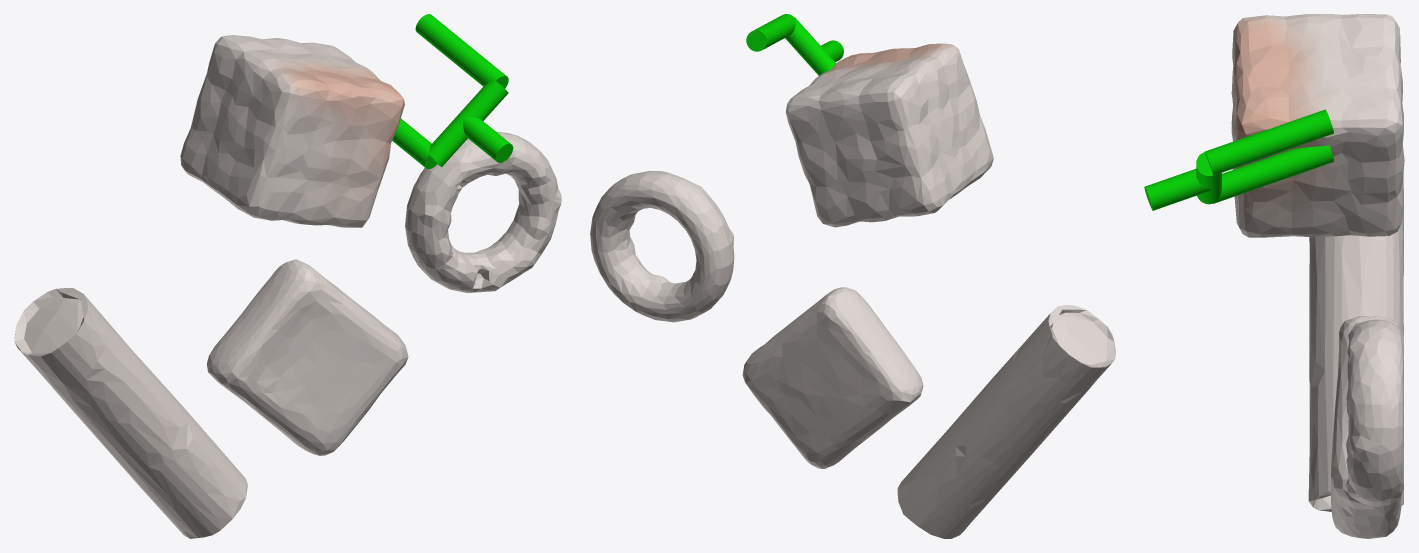
Rendered from round_000_trial_001.obj.
The picture shows the model from 3 angles, left to right: view 1: azimuth 30°, elevation 25°; view 2: azimuth 150°, elevation 25°; view 3: azimuth 270°, elevation 25°; orthographic projection. The views are drawn at different scales.
Parts seen in each view (by area): view 1: geometry_0, geometry_1; view 2: geometry_0, geometry_1; view 3: geometry_0, geometry_1.
Boxes of the visible parts, x1=… form: geometry_0: x1=14, y1=35, x2=561, y2=538; geometry_1: x1=392, y1=14, x2=513, y2=169; geometry_0: x1=590, y1=43, x2=1115, y2=538; geometry_1: x1=746, y1=14, x2=843, y2=75; geometry_0: x1=1231, y1=14, x2=1404, y2=538; geometry_1: x1=1144, y1=109, x2=1334, y2=210.
Bounding box in the file's own units: 0.2725 × 0.2283 × 0.1014.
